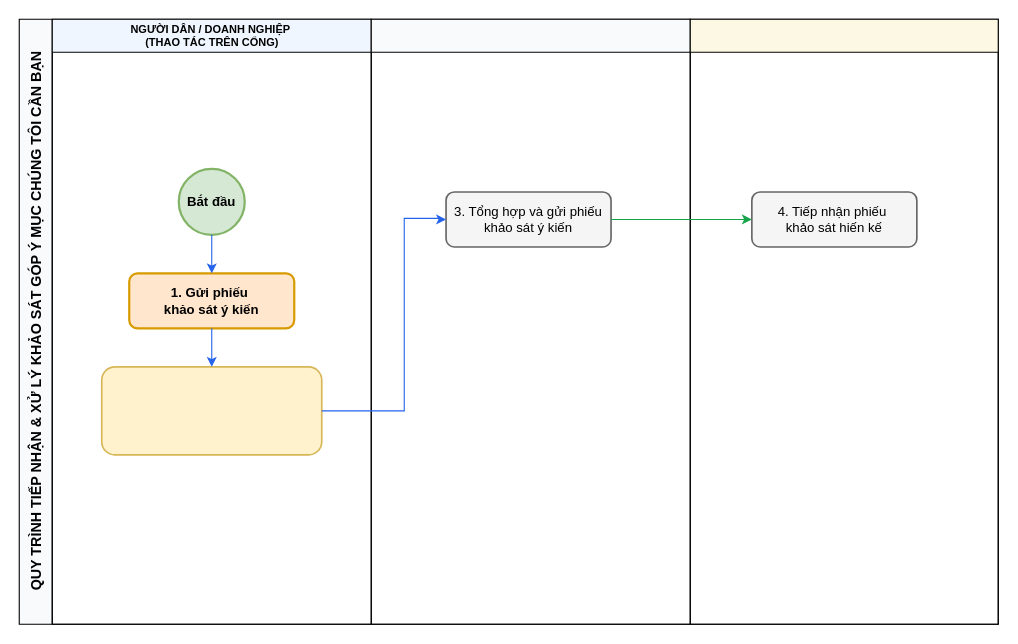
This 1018x644 diagram has some shape labels left out. The box of each missing label's shape, as (x1, y1, x2, y2) in pixels:
2. Hệ thống xác nhận đã tiếp nhận thông tin: (100, 366, 322, 455)
BỘ BAN NGÀNH: (689, 18, 998, 624)
QUẢN TRỊ VIÊN MỤC HIẾN KẾ (ADMIN): (370, 18, 690, 624)
